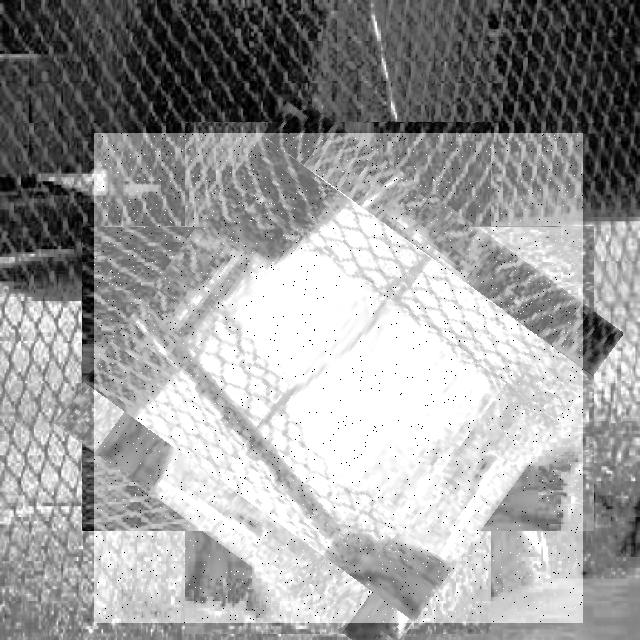anomaly-fence: (94, 133, 583, 623)
